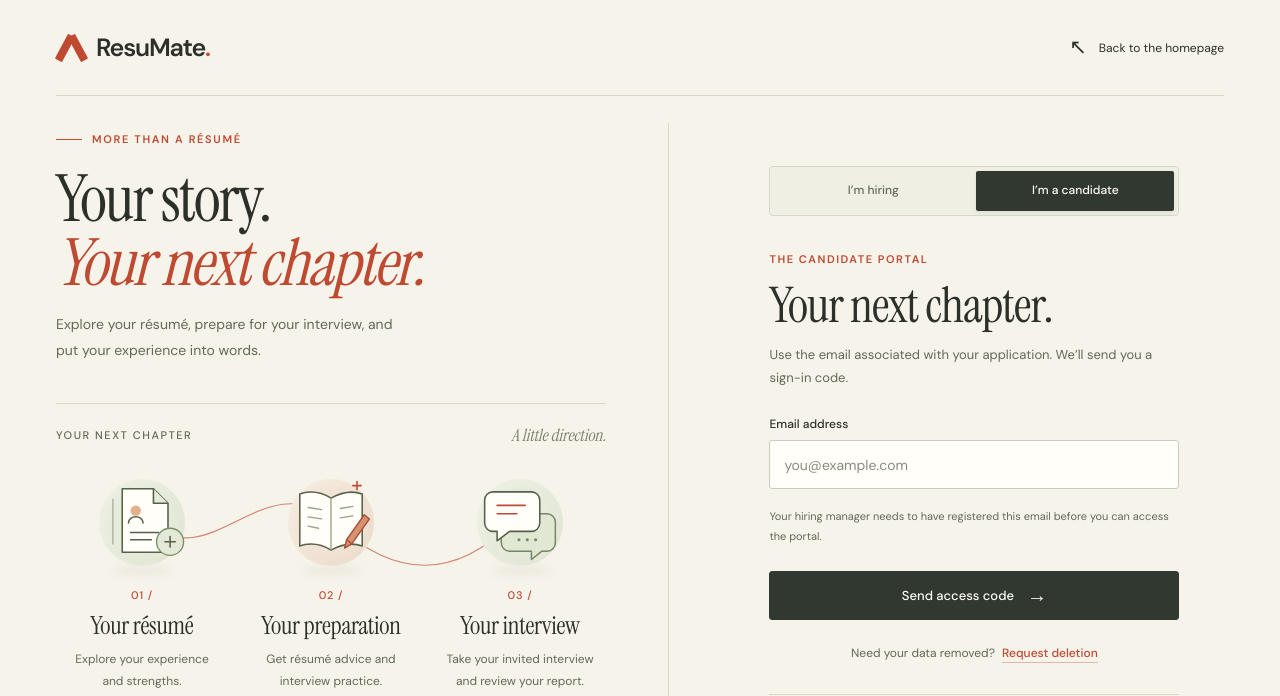
Test: the code step › shows why a code was refused
Type "Dana@X.com" into the field labelled "Email address".
click(974, 465); type("Dana@X.com")  # box [769,440,1179,489]
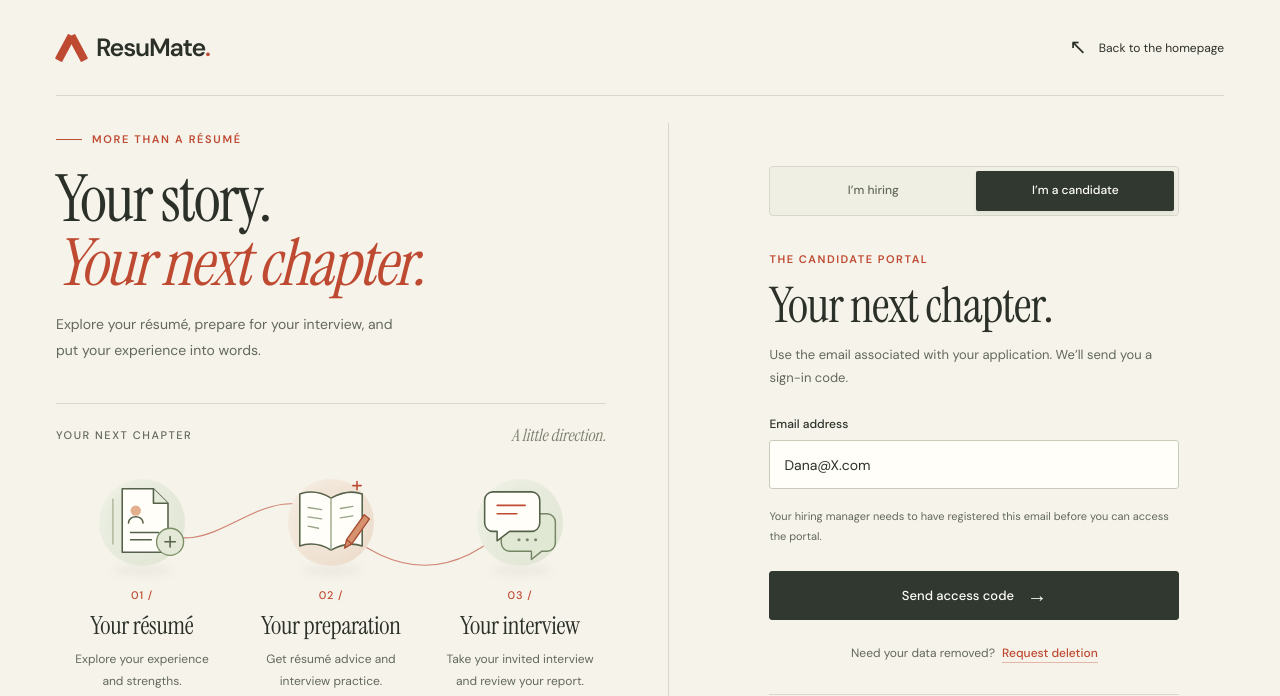
Click the button "Send access code →".
click(974, 595)  # box [769,571,1179,620]
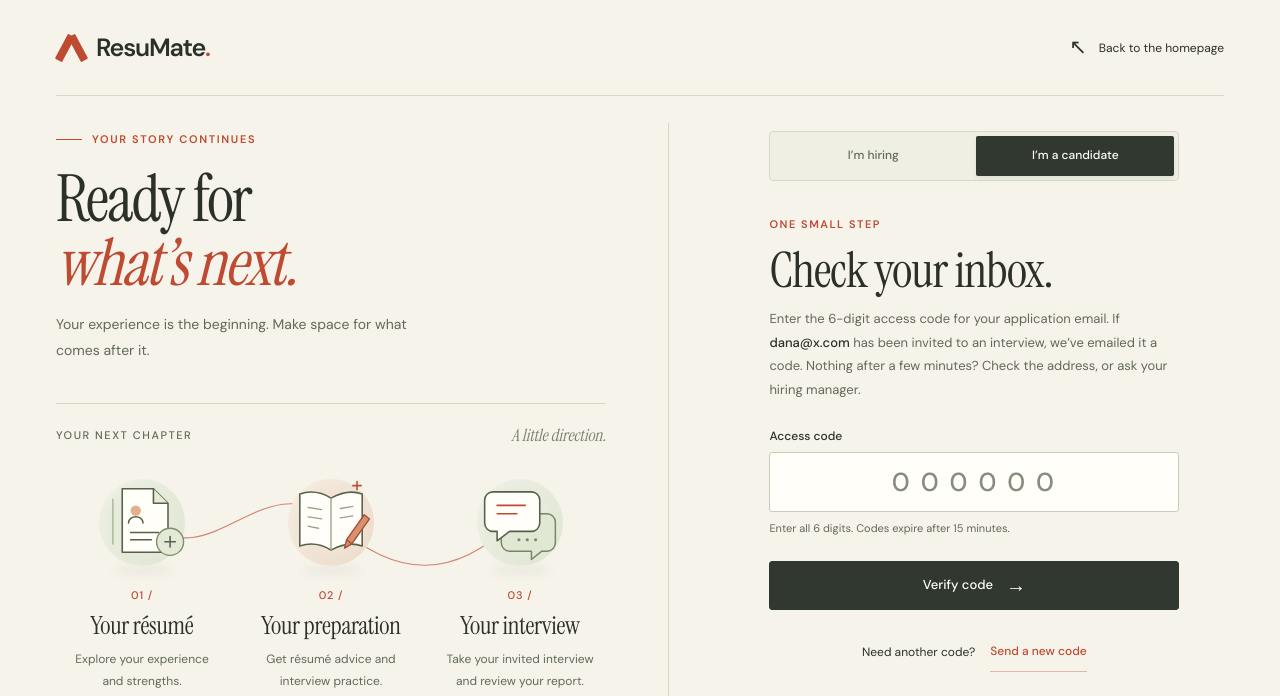
Type "123456" into the field labelled "Access code".
click(974, 482); type("123456")  # box [769,452,1179,512]
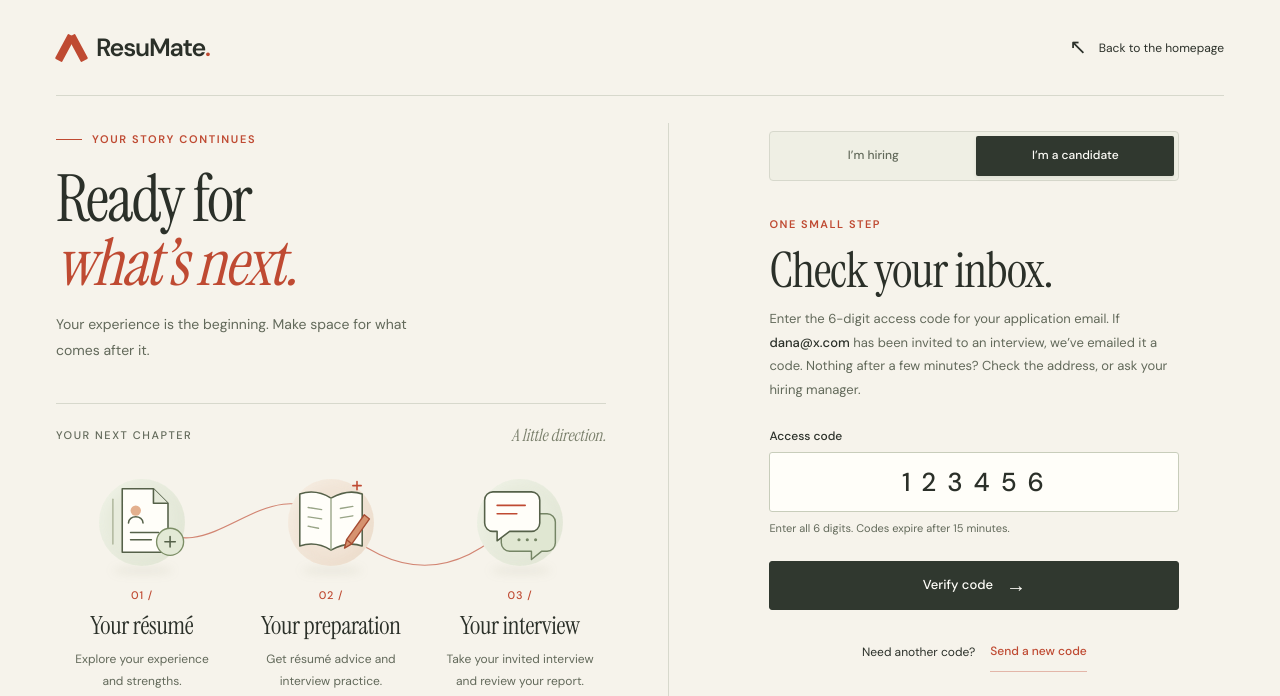
Click the button "Verify code →".
click(974, 585)  # box [769,561,1179,610]
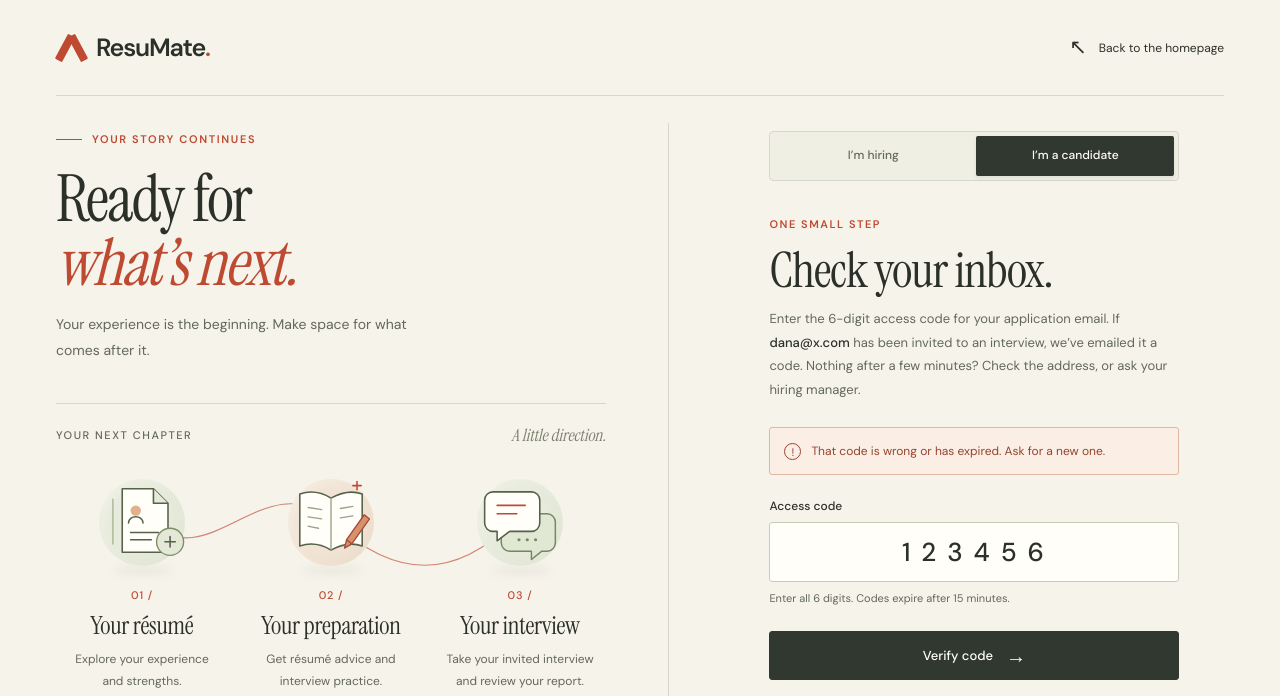
Expected: the text "That code is wrong or has expired. Ask for a new one." is shown, [811,441,1105,461]
